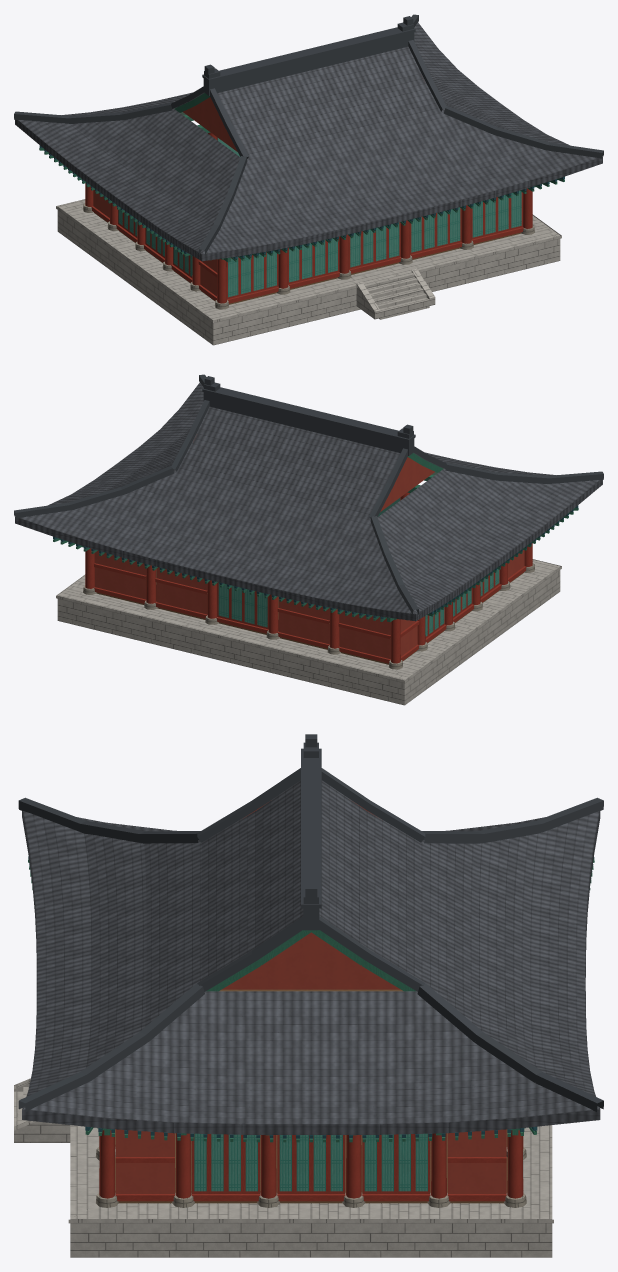
3 renders of one model, top to bottom at view 1: azimuth 30°, elevation 25°; view 2: azimuth 150°, elevation 25°; view 3: azimuth 270°, elevation 25°, orthographic. The views are drawn at different scales.
Visible parts, largest first — view 1: bicheondang; view 2: bicheondang; view 3: bicheondang.
Part boxes in pixels (x1,y1,x2,y2): bicheondang: (14, 14, 603, 345); bicheondang: (14, 374, 603, 705); bicheondang: (14, 734, 603, 1257).
Bounding box in the file's own units: 24.64 × 11.84 × 20.1.
12 materials, 11 textured.
